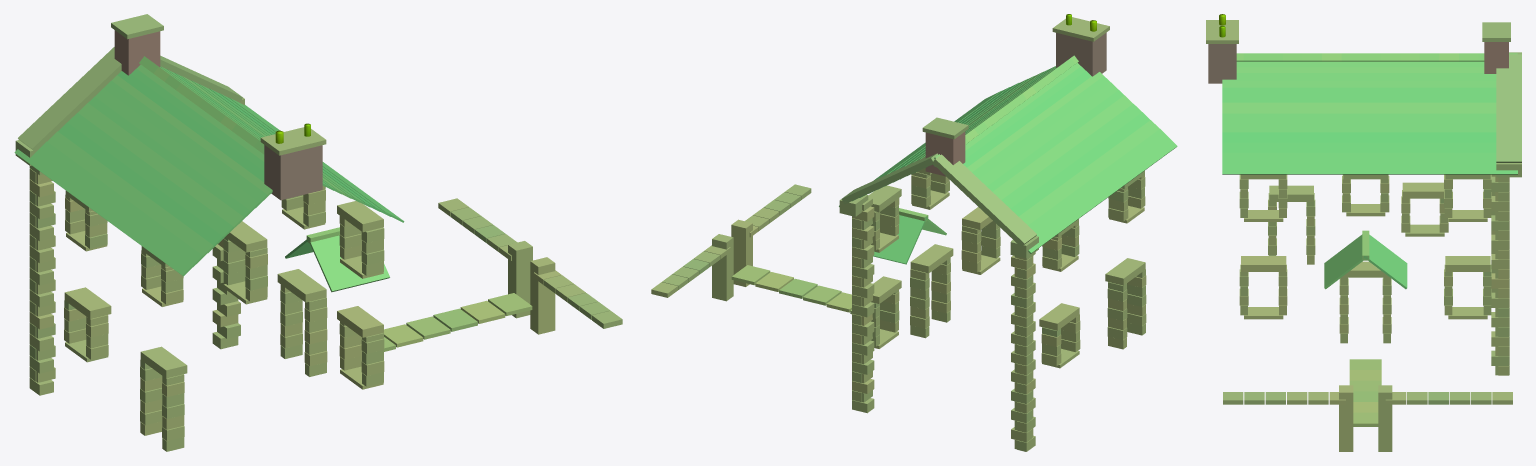
File: SM_Bld_091_Stone.glb
3 views of the same model, side by side, from view 1: azimuth 30°, elevation 25°; view 2: azimuth 150°, elevation 25°; view 3: azimuth 270°, elevation 25° (orthographic). The views are drawn at different scales.
Visible parts, largest first — view 1: SM_Bld_091_Stone; view 2: SM_Bld_091_Stone; view 3: SM_Bld_091_Stone.
Boxes of the visible parts, x1,y1,x2,y2 form: SM_Bld_091_Stone: (14,14,622,451); SM_Bld_091_Stone: (651,14,1177,451); SM_Bld_091_Stone: (1206,14,1521,451).
Size of the model in its own units: 12.54 by 9.66 by 8.88.
